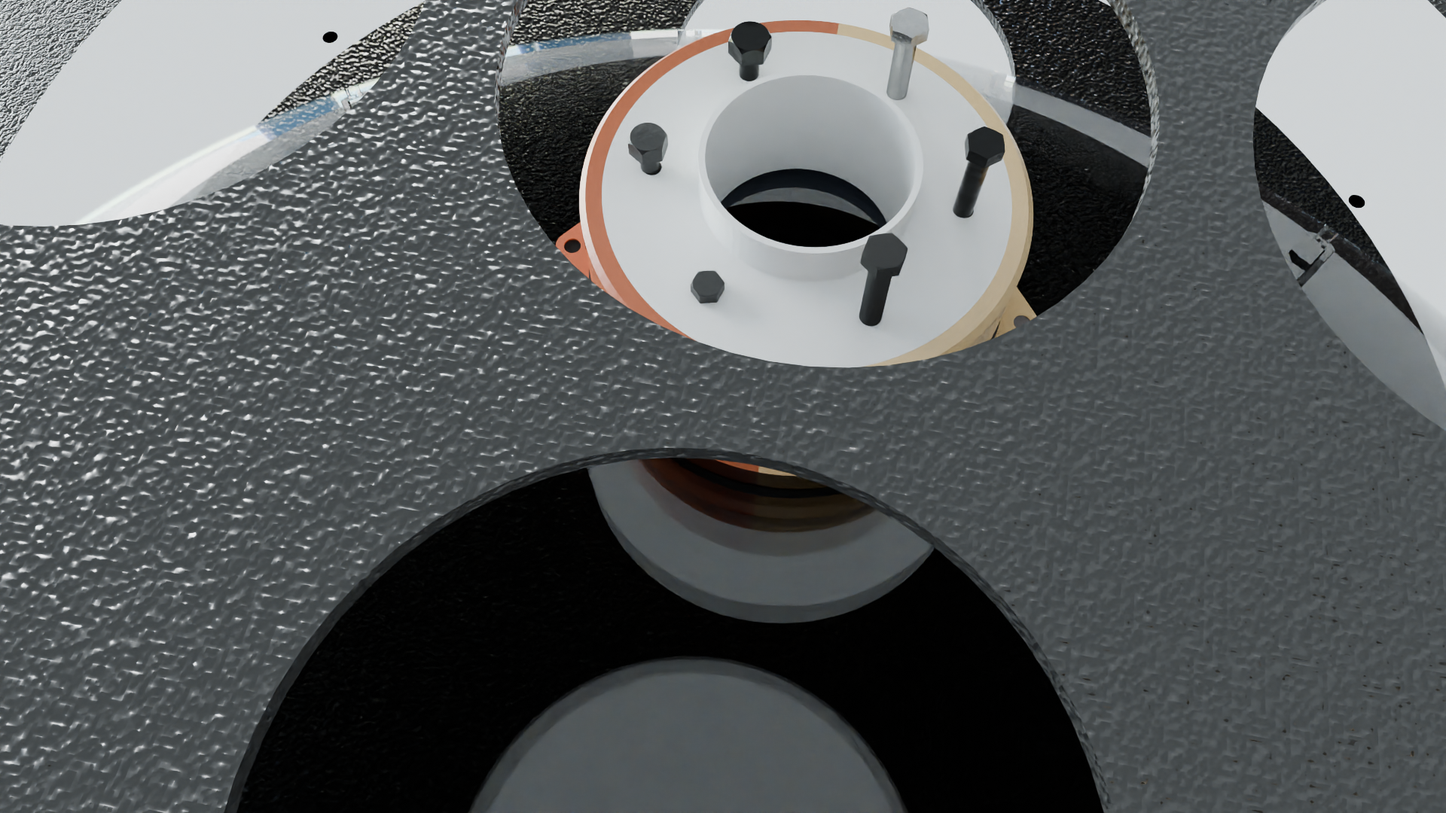bolt: (862, 233, 908, 270), (728, 21, 772, 54), (967, 126, 1005, 160), (628, 123, 667, 155), (891, 8, 929, 38), (691, 270, 725, 297)
